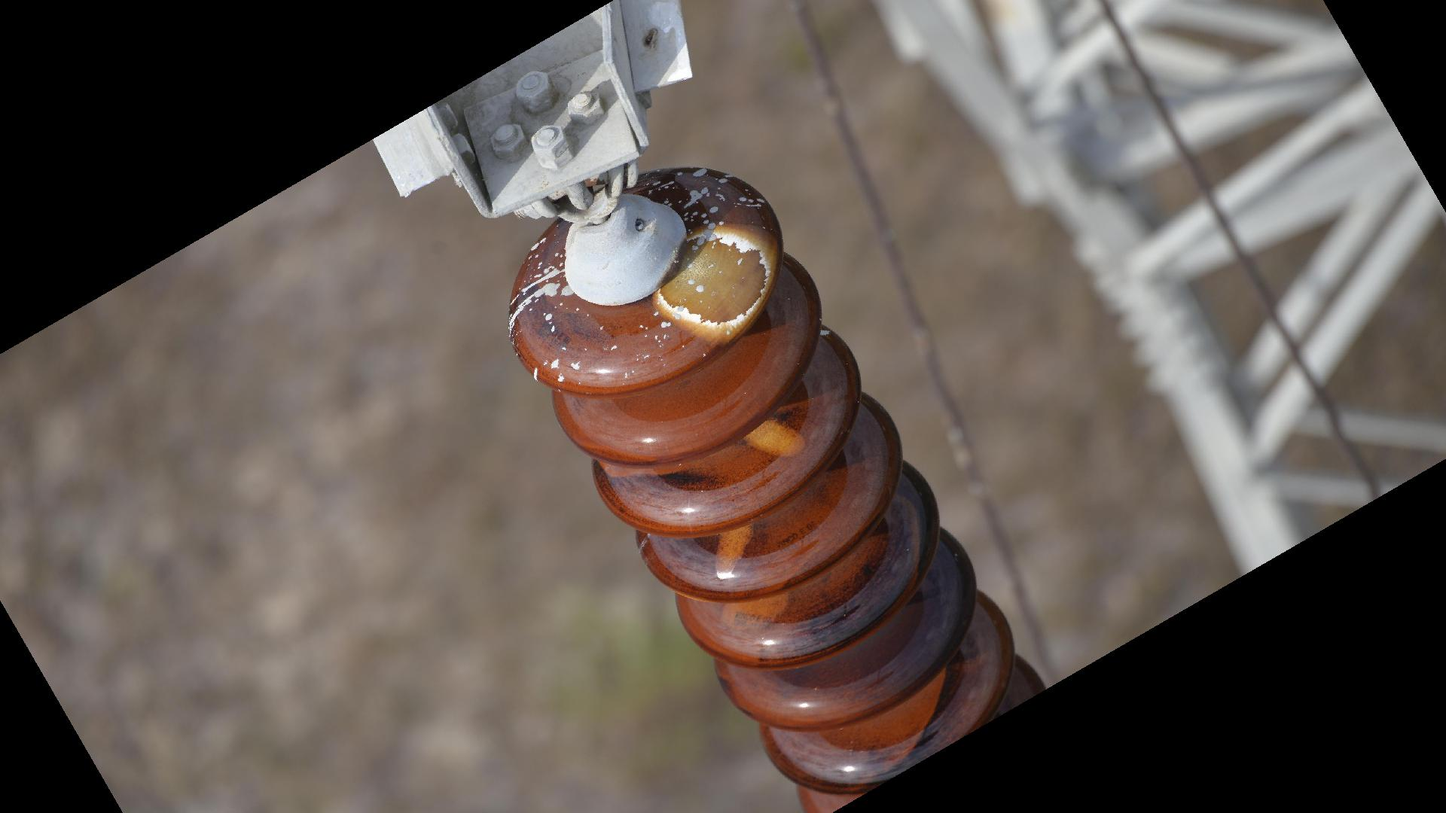insulator: (500, 161, 1056, 813)
insulator_flashover: (656, 225, 775, 340), (740, 416, 810, 464), (709, 518, 755, 583)
